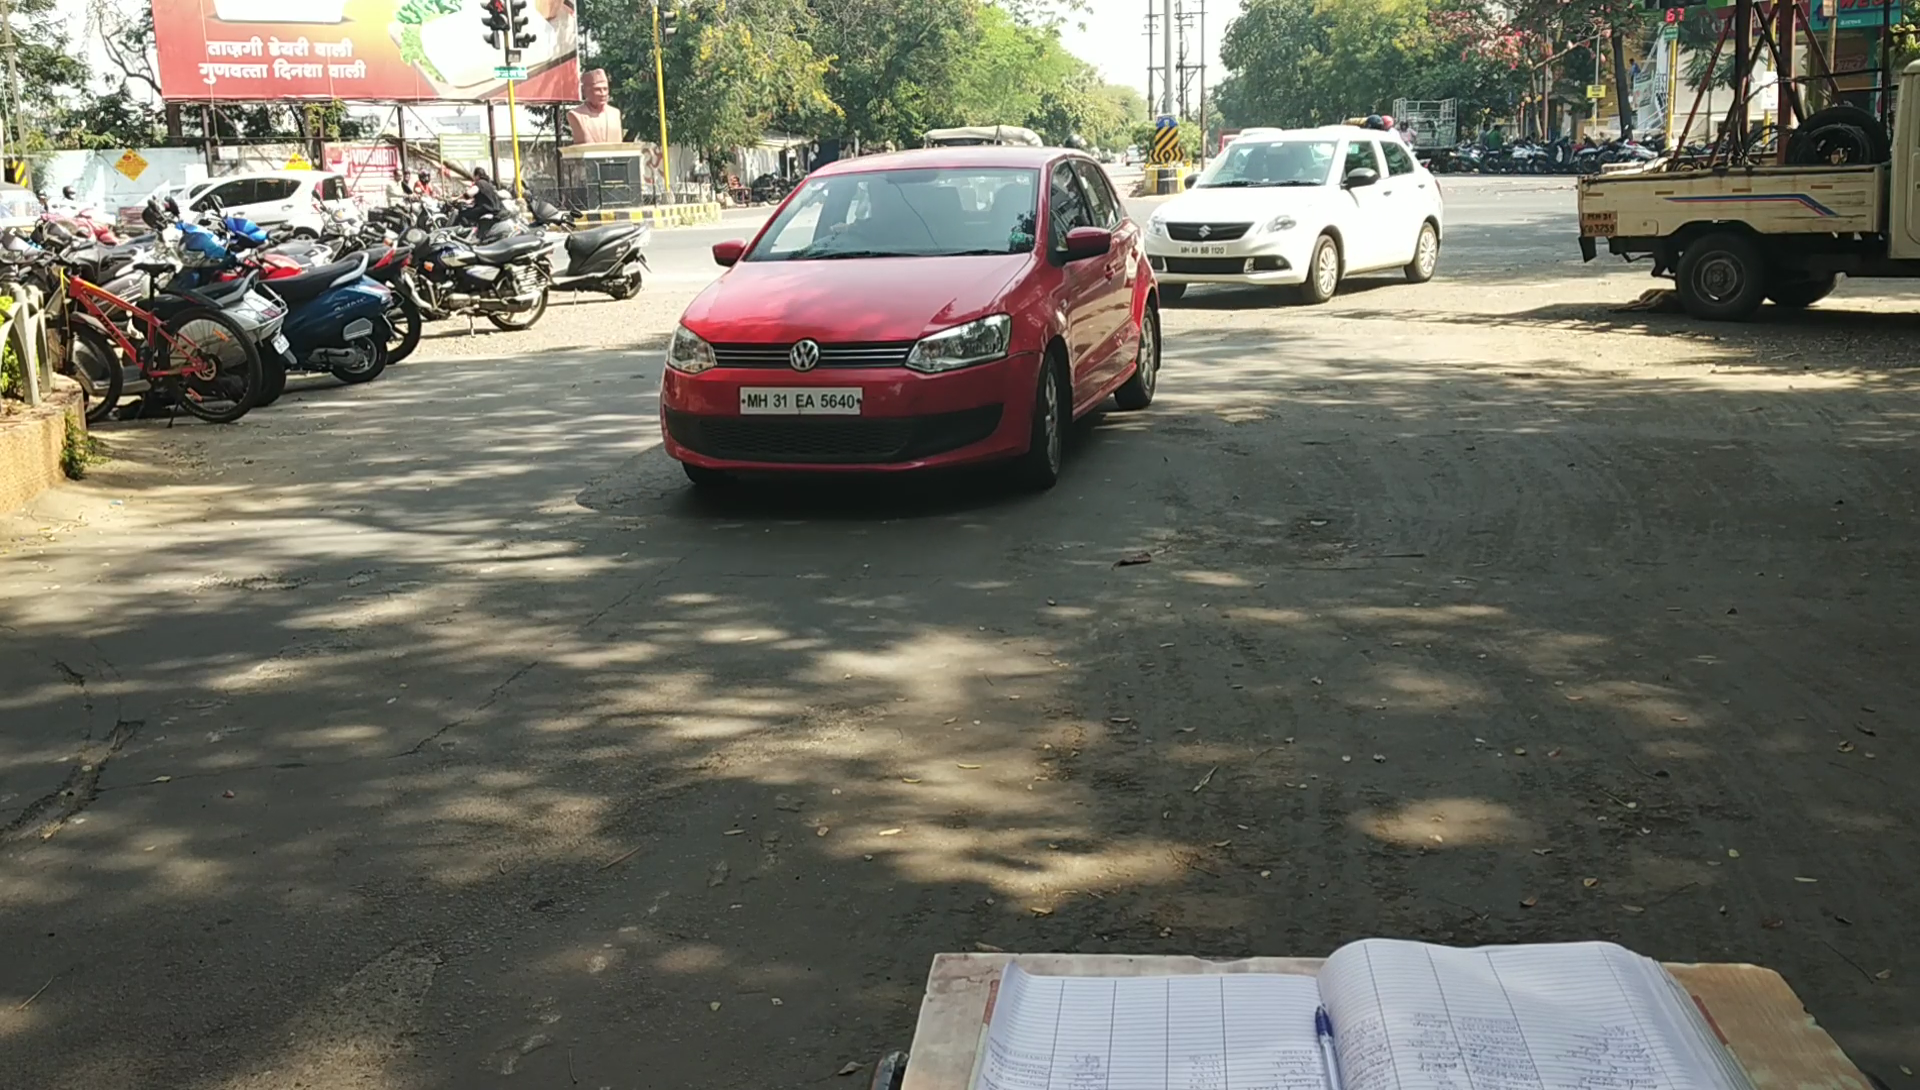car: (654, 137, 1175, 521)
numplate: (736, 388, 873, 421)
